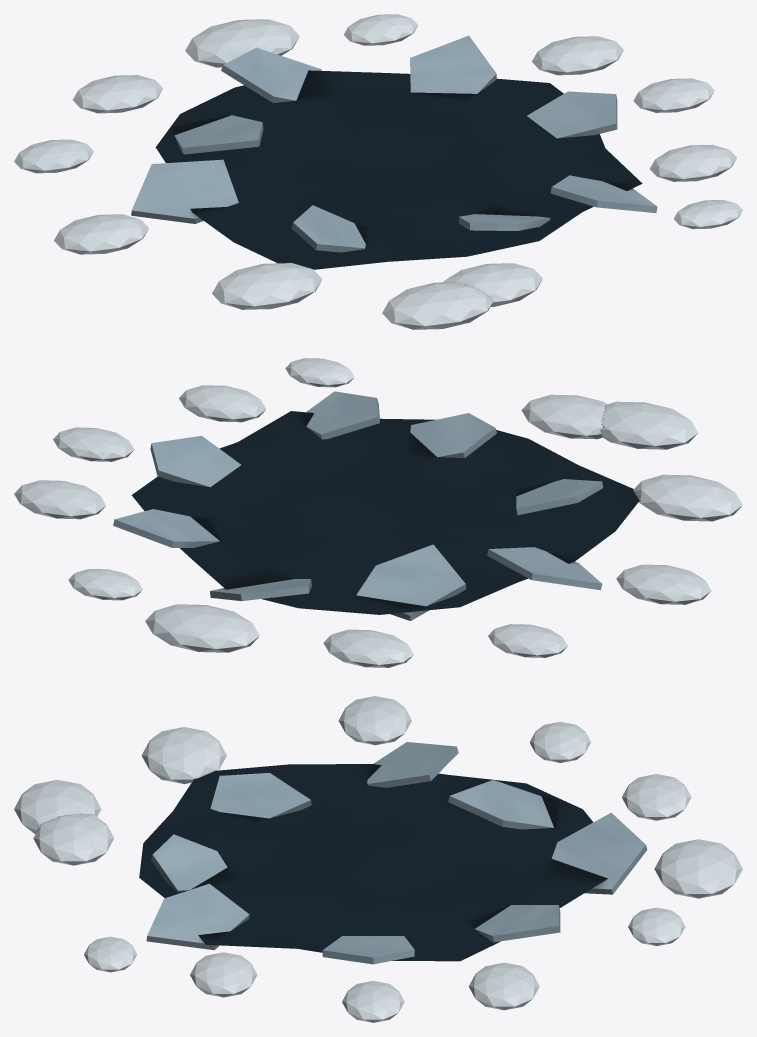
The model's file is trap_snow_heavy_sprung.glb.
3 renders of one model, top to bottom at view 1: azimuth 30°, elevation 25°; view 2: azimuth 150°, elevation 25°; view 3: azimuth 270°, elevation 25°, orthographic.
Parts seen in each view (by area): view 1: trap_snow_heavy_sprung; view 2: trap_snow_heavy_sprung; view 3: trap_snow_heavy_sprung.
Part boxes in pixels (x1=…): trap_snow_heavy_sprung: x1=14, y1=14, x2=742, y2=329; trap_snow_heavy_sprung: x1=14, y1=358, x2=742, y2=667; trap_snow_heavy_sprung: x1=14, y1=696, x2=742, y2=1022.
Bounding box in the file's own units: 2.7 × 0.1665 × 2.6.
Materials: 3 (3 with a texture image).
